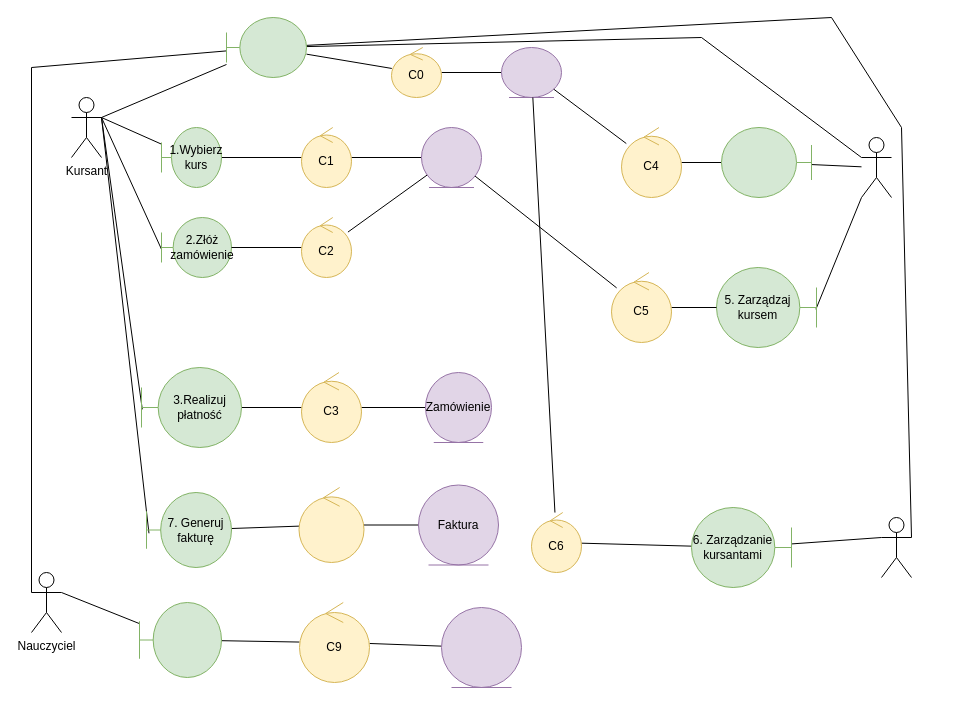
The diagram is 974 pixels wide and 705 high, and some of its shapes have lost their labels. The shapes that lost their labels are listed below. From the top down, each one's centre as x and y in pixels, then its label:
At pixel 266 47: "0.Autoryzuj użytkownika".
At pixel 531 72: "Użytkownik".
At pixel 451 157: "Kurs".
At pixel 766 162: "4.Zarządzaj użytkownikiem".
At pixel 876 167: "Operator systemu".
At pixel 331 524: "C7".
At pixel 896 547: "Pracownik sekretariatu".
At pixel 180 640: "9.Zarządzaj ocenami".
At pixel 481 647: "Ocena".
